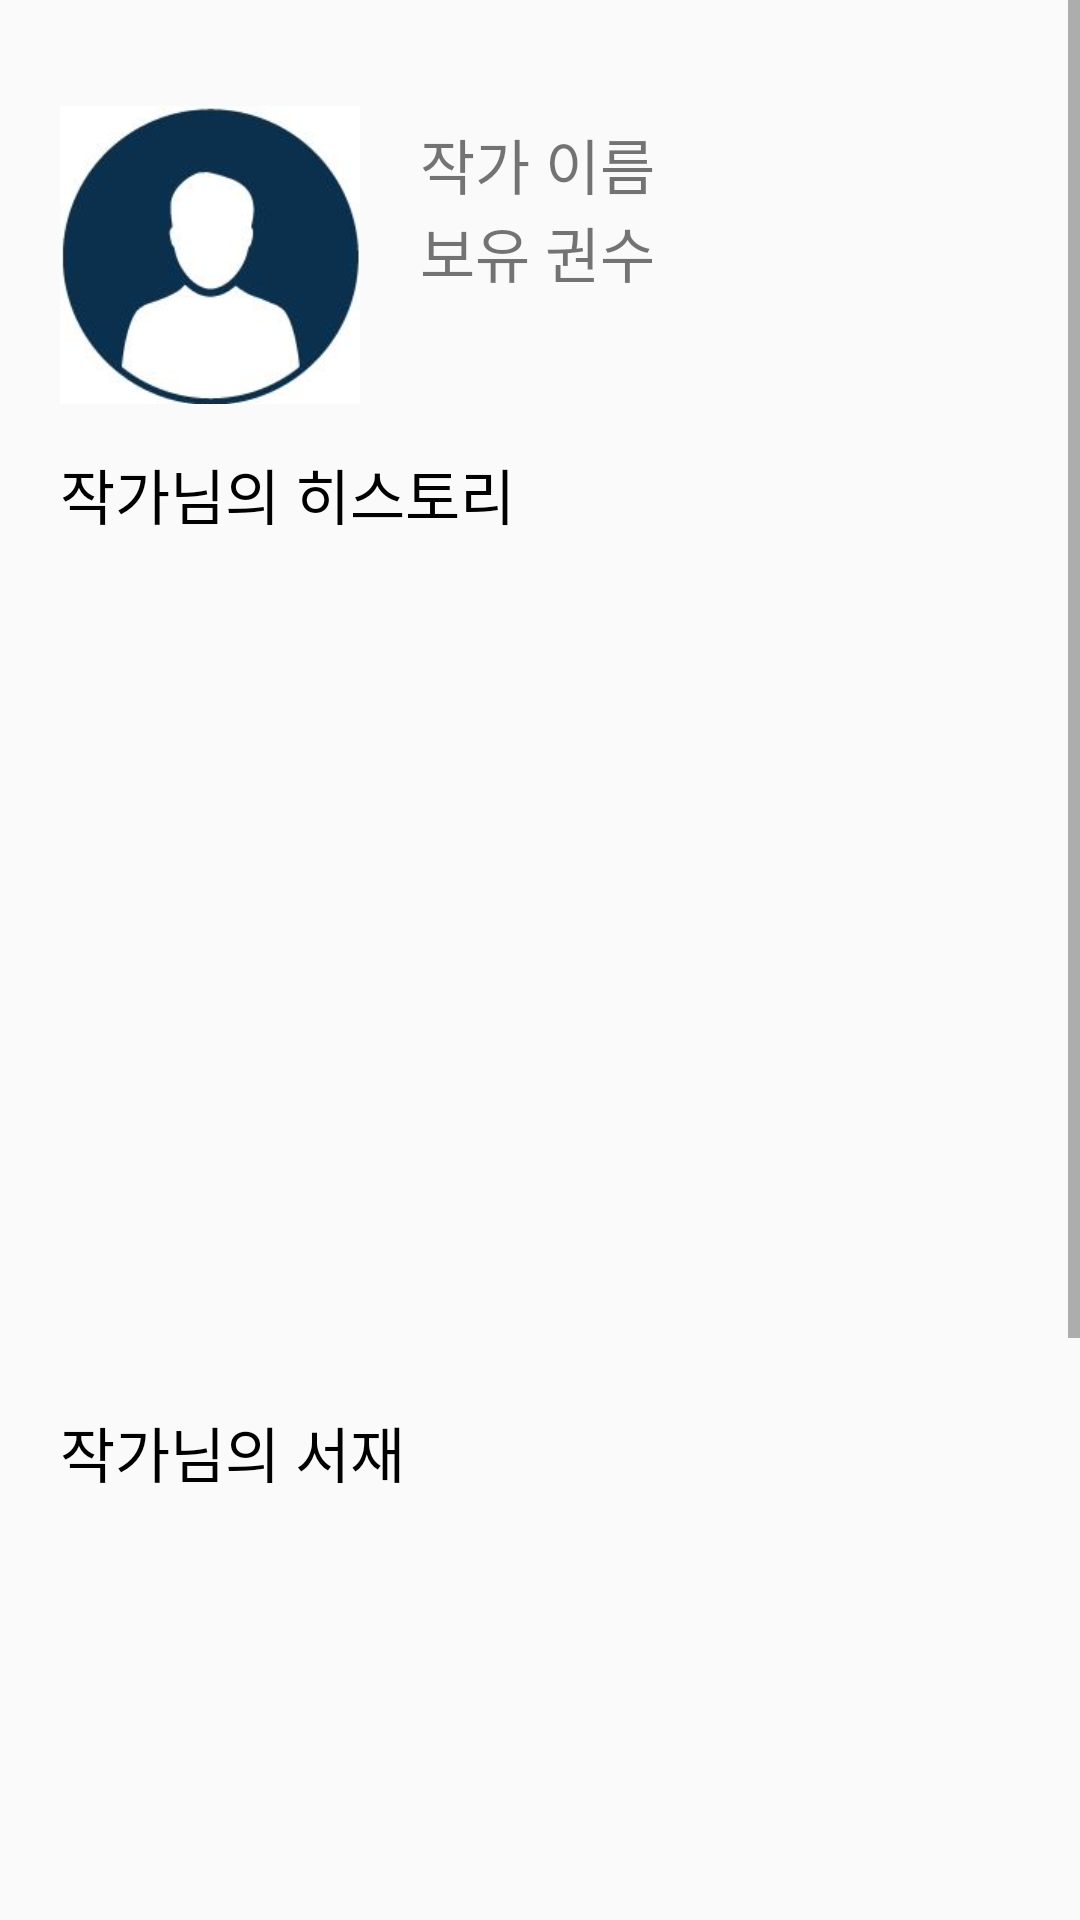

Icons on this 1080 x 1920 Android screen, each with its box as (x1, y1, x2, y2):
profilepicture: (62, 108, 359, 404)
